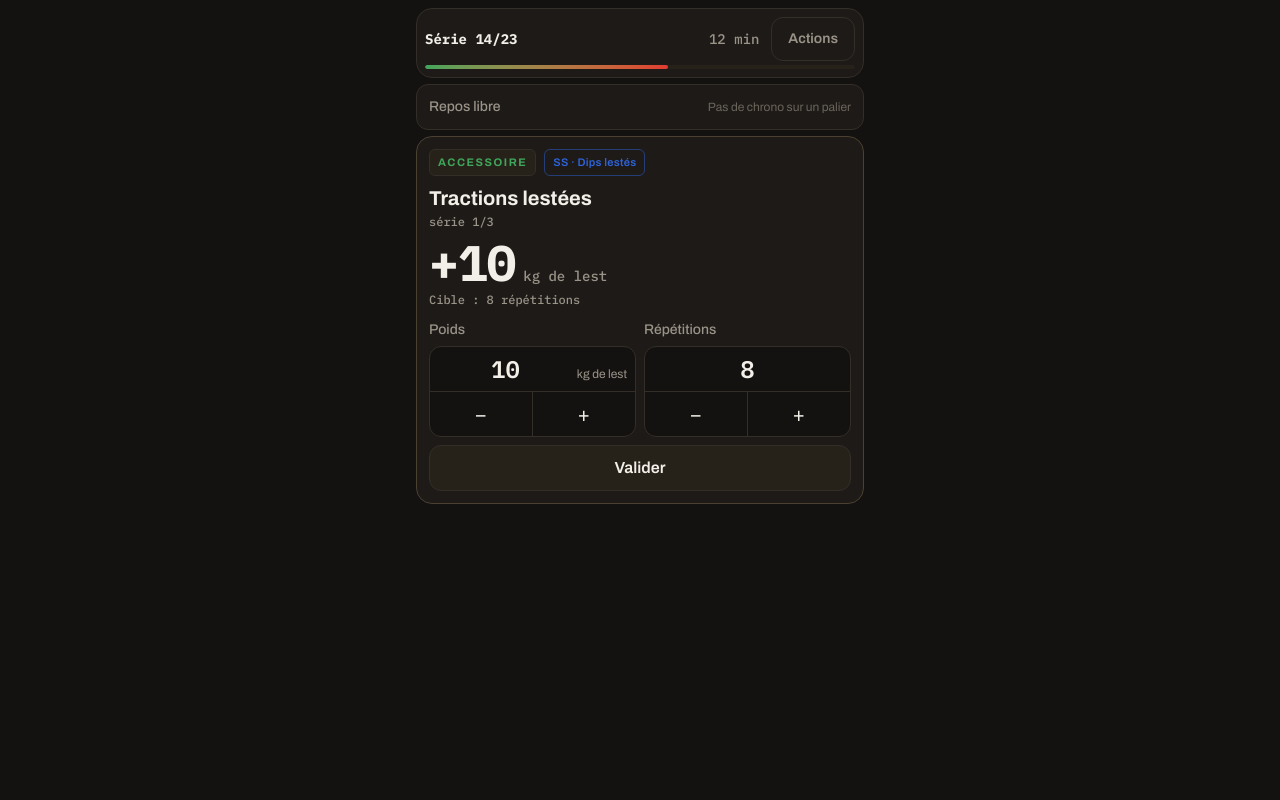
Test: SessionFocus › rend le partenaire puis l’exercice suivant dans un superset
This screenshot has width=1280, height=800.
Check: the text "SS · Dips lestés" is shown, box [544,149,645,176]
Click the button "Actions". click: (813, 39)
box: [771,17,855,61]
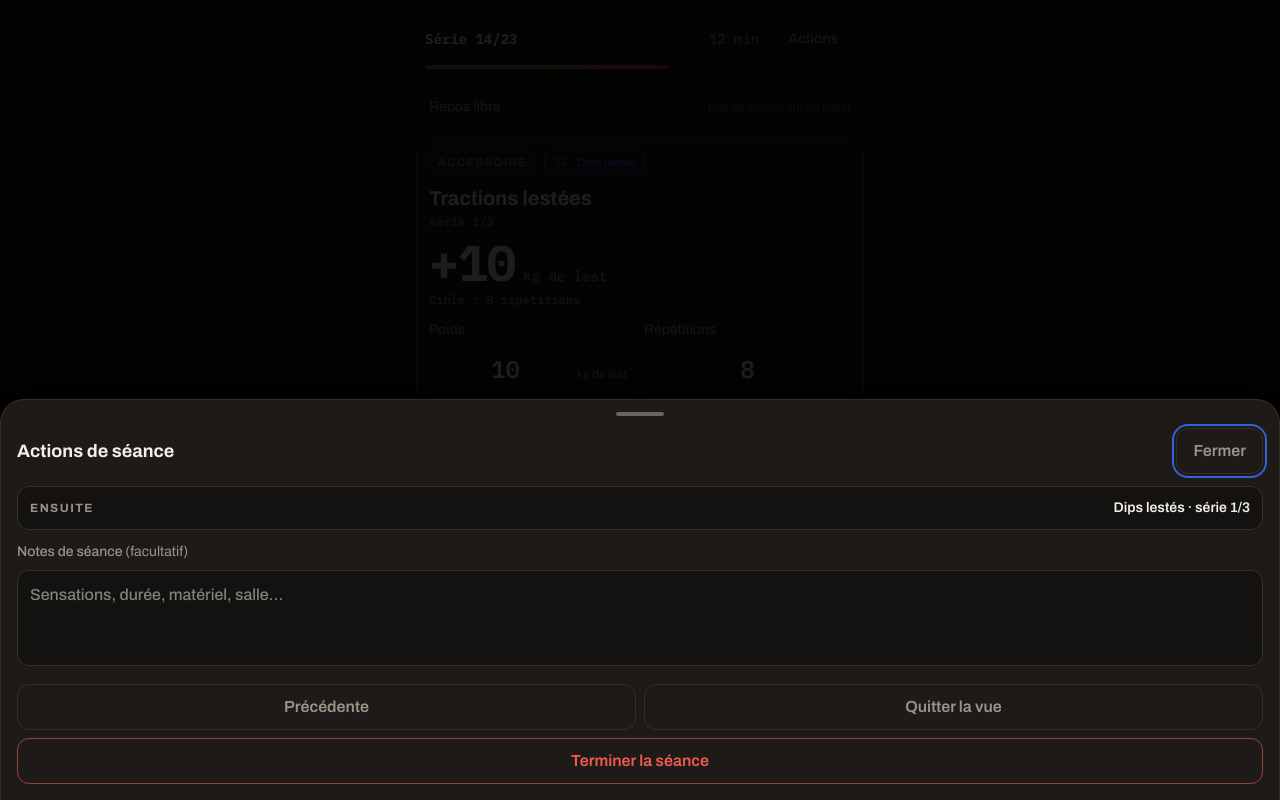
Check: the text "Dips lestés · série 1/3" is shown, box [1114,498,1250,518]
